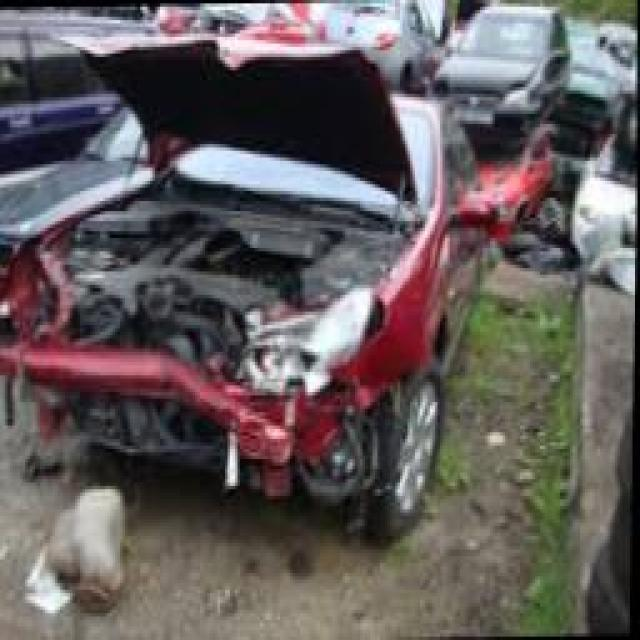Bonnet: (40, 191, 409, 310)
Bumper: (0, 332, 369, 514)
